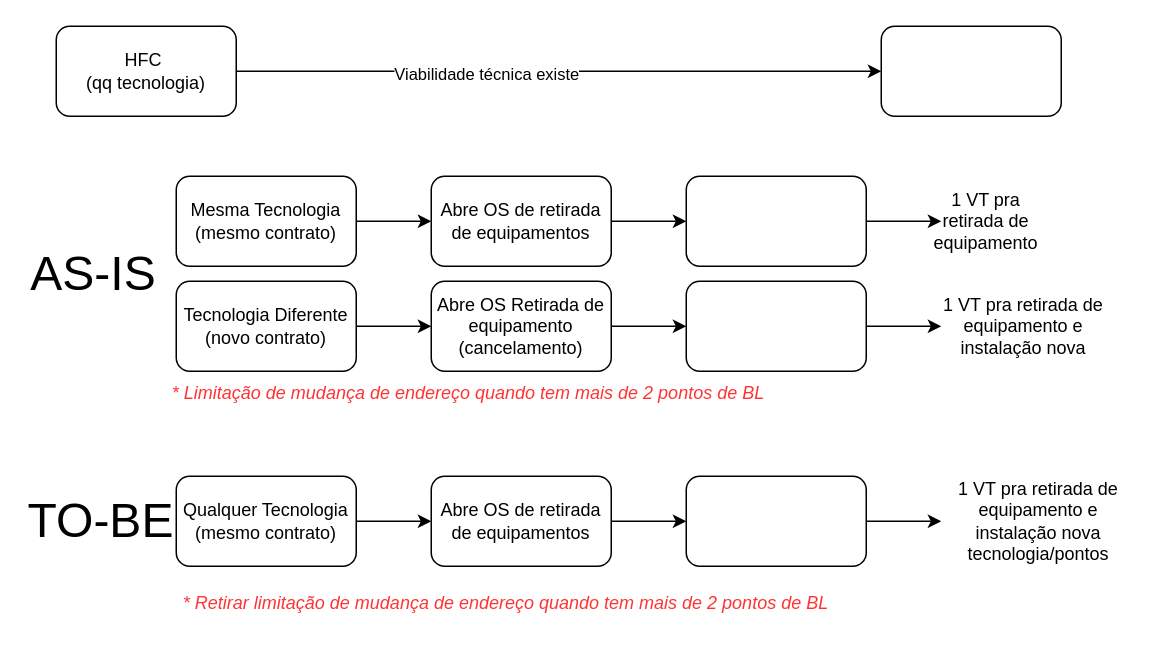
Some shapes in this 1161 by 653 pixel diagram are drawn without their labels. Each missing label, with the centre of its shape:
"Abre OS de Instalação de novos produtos/pontos/ equipamentos" goes at point (775, 520).
"Automaticamente abre OS de instalação de todos os pontos e produtos" goes at point (775, 220).
"Fibra (qq tecnologia)" goes at point (970, 70).
"Novo contrato - Abre OS de Instalação de pontos e equipamento" goes at point (775, 325).
